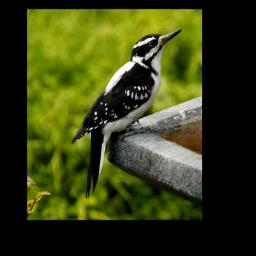Woodpecker: (72, 24, 183, 200)
